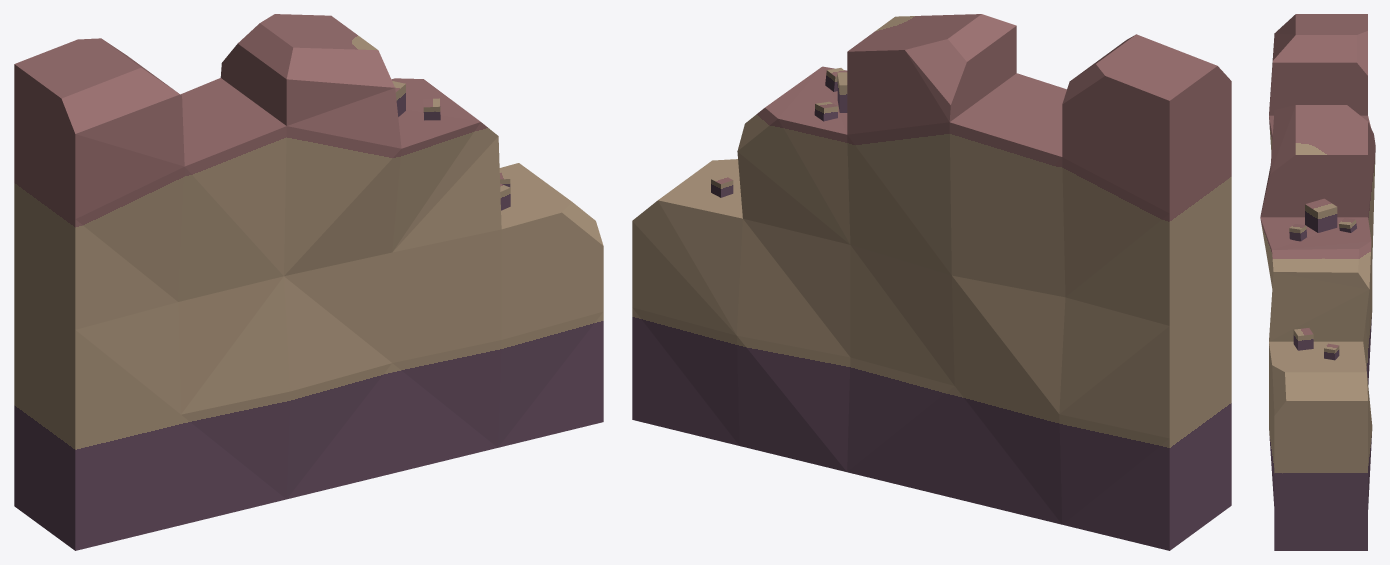
Rendered from Wall 4.002.fbx.
3 views of the same model, side by side, from view 1: azimuth 30°, elevation 25°; view 2: azimuth 150°, elevation 25°; view 3: azimuth 270°, elevation 25° (orthographic). The views are drawn at different scales.
Parts seen in each view (by area): view 1: Wall 4.002; view 2: Wall 4.002; view 3: Wall 4.002.
Part boxes in pixels (<box>): Wall 4.002: <box>14,14,603,550</box>; Wall 4.002: <box>632,14,1231,550</box>; Wall 4.002: <box>1260,14,1375,550</box>.
Bounding box in the file's own units: 500 × 410 × 123.
